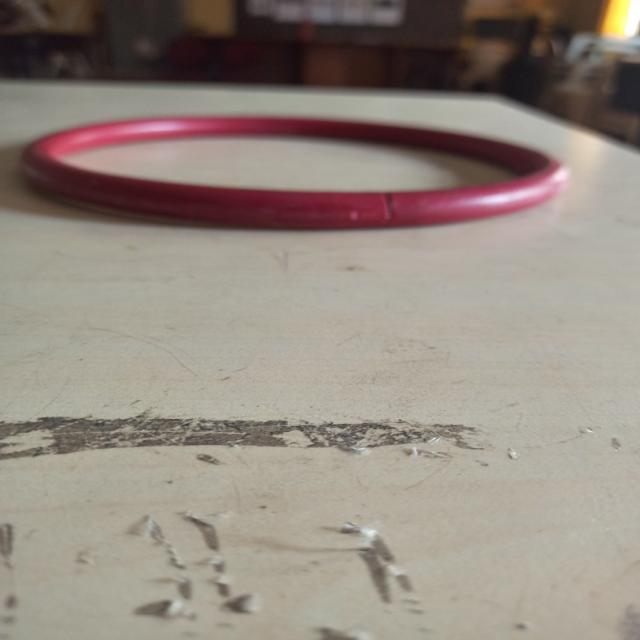daire: (26, 111, 558, 224)
